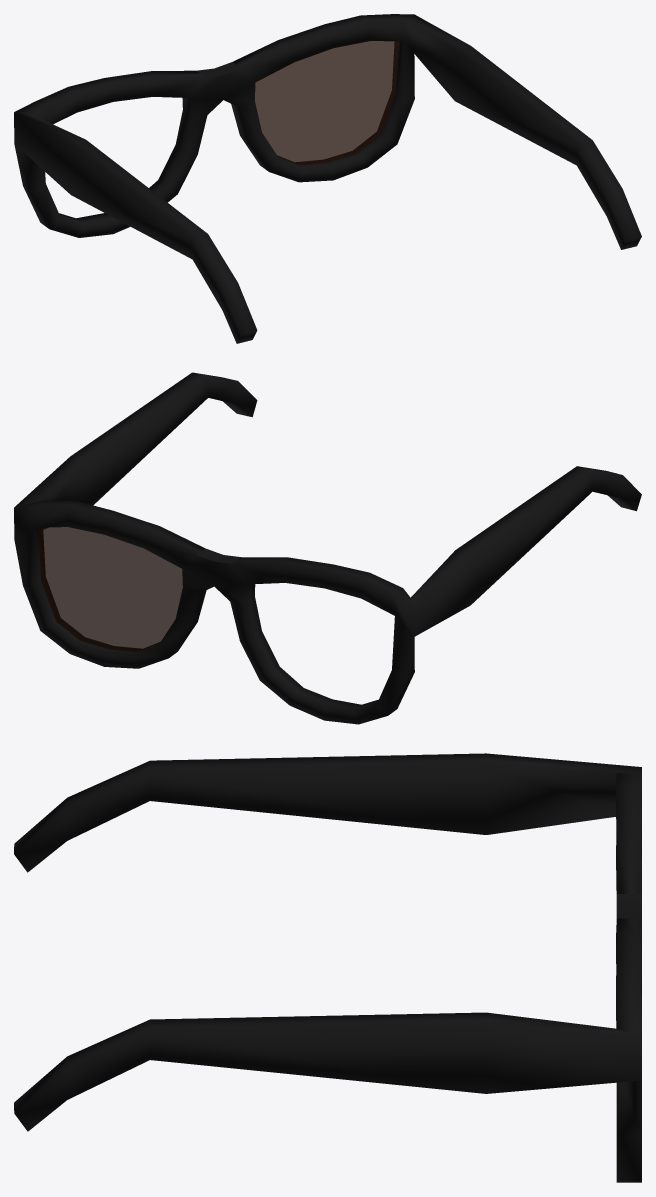
File: sunglasses.glb
3 renders of one model, top to bottom at view 1: azimuth 30°, elevation 25°; view 2: azimuth 150°, elevation 25°; view 3: azimuth 270°, elevation 25°, orthographic. The views are drawn at different scales.
Visible parts, largest first — view 1: Plane, Plane.001; view 2: Plane, Plane.001; view 3: Plane.
Part boxes in pixels (box(x1,y1,x2,y2)): Plane: box(14, 14, 641, 343); Plane.001: box(255, 41, 398, 165); Plane: box(14, 372, 641, 724); Plane.001: box(38, 527, 182, 652); Plane: box(14, 753, 641, 1182).
Size of the model in its own units: 0.4675 by 0.1669 by 0.4596.
